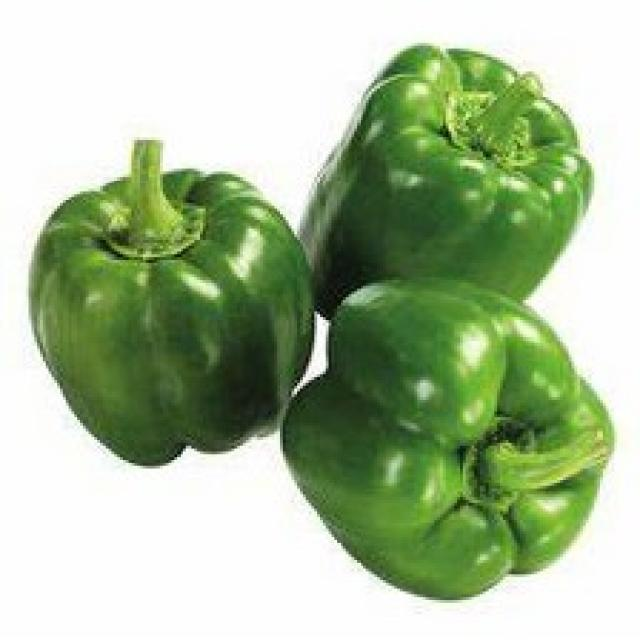Bell Pepper: (294, 274, 640, 621), (272, 29, 598, 368), (25, 103, 296, 505)
